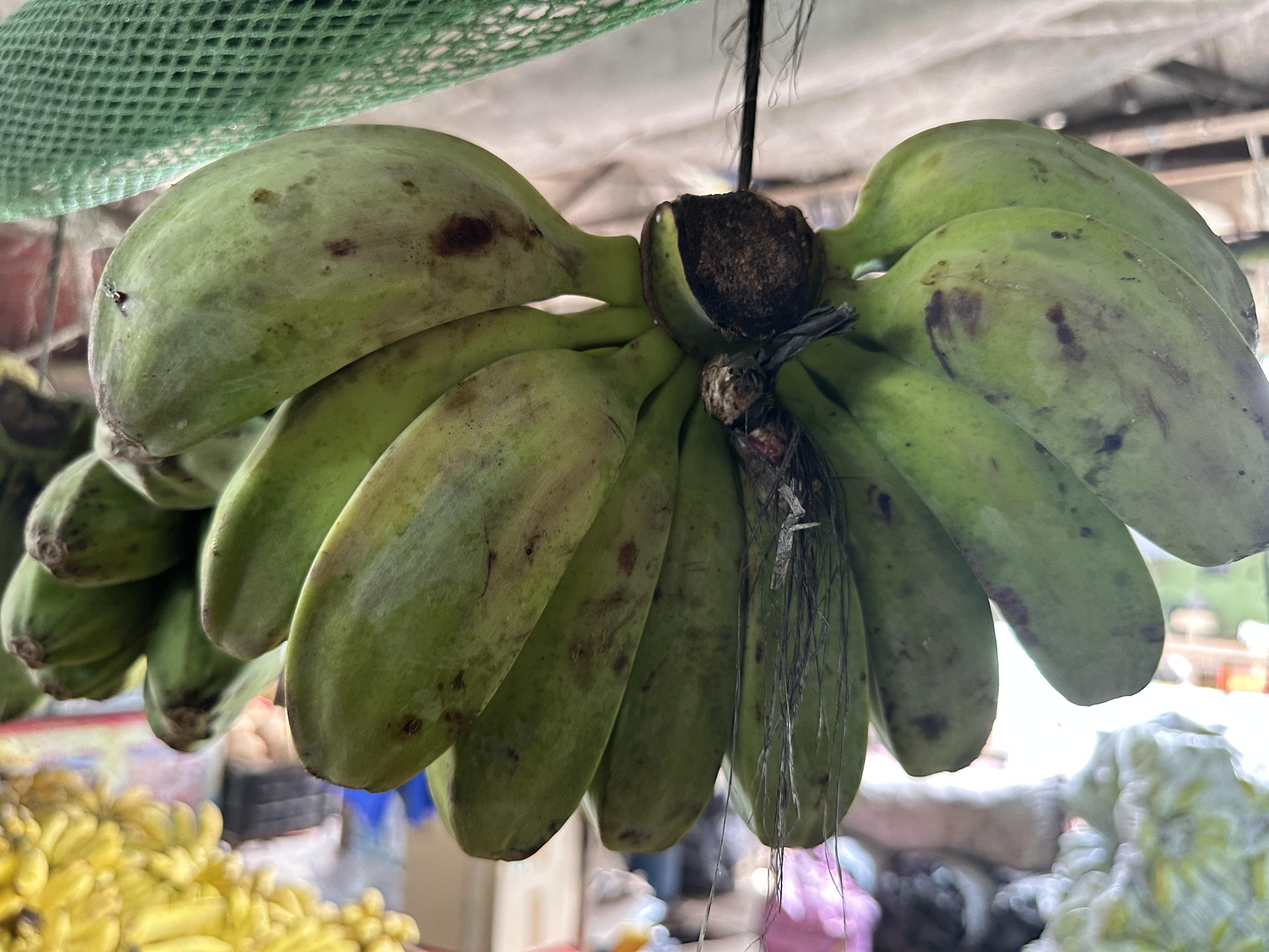underripe: (83, 126, 749, 861), (823, 120, 1269, 829), (0, 417, 285, 751)
